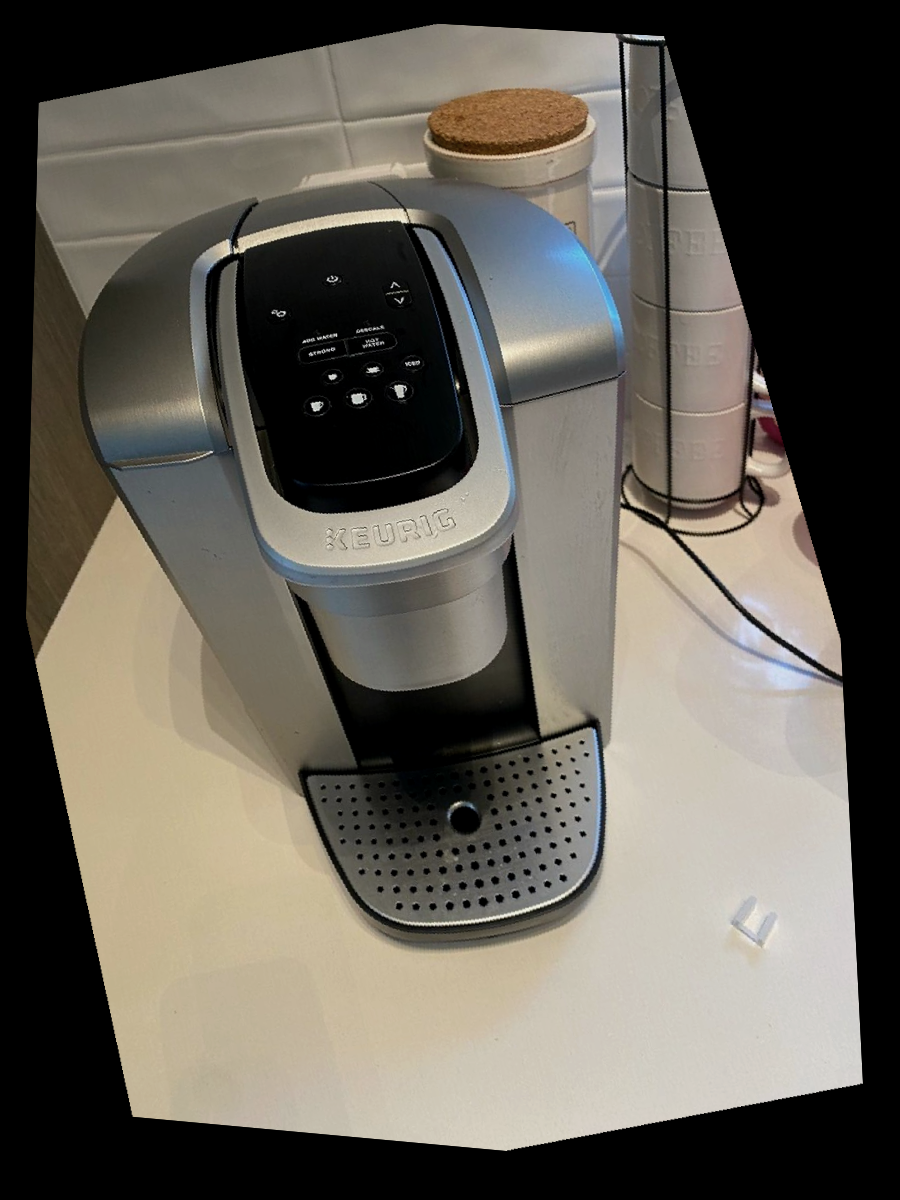10oz: (343, 387, 374, 410)
12oz: (383, 380, 414, 404)
4oz: (323, 368, 345, 384)
6oz: (360, 360, 385, 380)
8oz: (302, 395, 333, 418)
add_water: (288, 317, 343, 348)
coffee_handle: (298, 538, 495, 602)
descale: (341, 307, 397, 338)
hot: (345, 328, 400, 358)
iced: (402, 353, 427, 373)
platform: (438, 793, 490, 842)
power: (321, 270, 346, 288)
strong: (293, 337, 349, 369)
water_handle: (107, 445, 216, 475)
